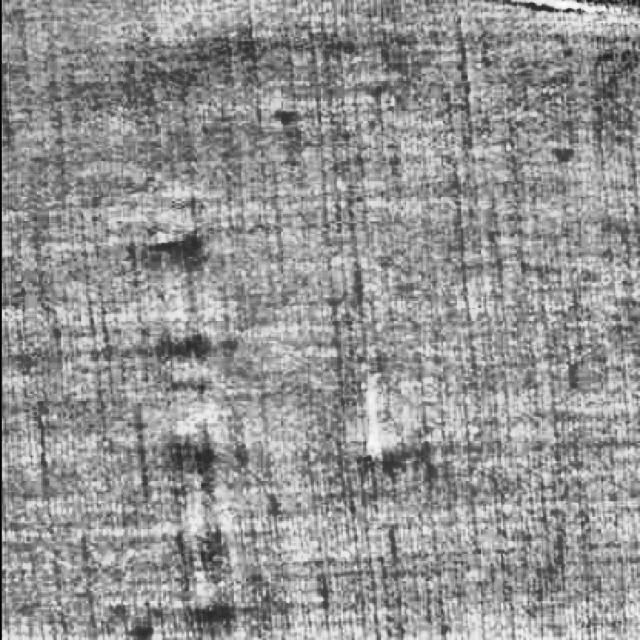thread_error: (354, 360, 405, 484), (505, 0, 640, 28)
